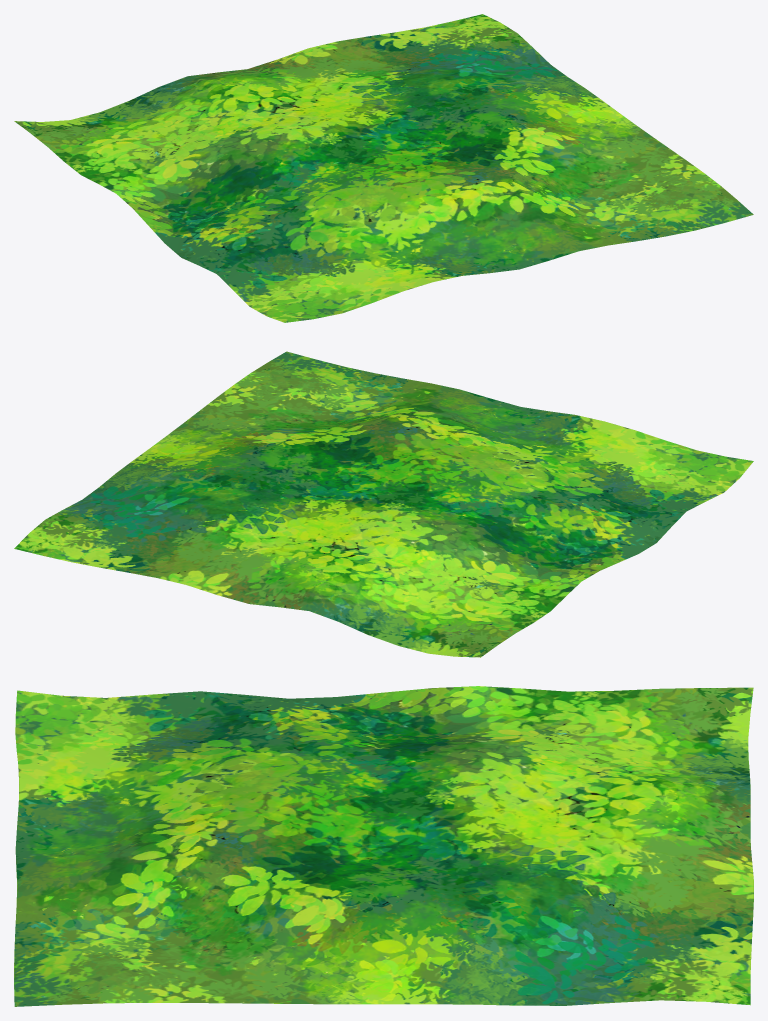
Rendered from BiddingLandTerrain.fbx.
The picture shows the model from 3 angles, top to bottom: view 1: azimuth 30°, elevation 25°; view 2: azimuth 150°, elevation 25°; view 3: azimuth 270°, elevation 25°; orthographic projection. The views are drawn at different scales.
Visible parts, largest first — view 1: BiddingLandTerrain; view 2: BiddingLandTerrain; view 3: BiddingLandTerrain.
Part boxes in pixels (<box>): BiddingLandTerrain: <box>14,14,753,322</box>; BiddingLandTerrain: <box>14,351,753,657</box>; BiddingLandTerrain: <box>14,686,753,1006</box>.
Bounding box in the file's own units: 1243 × 78.9 × 1242.
